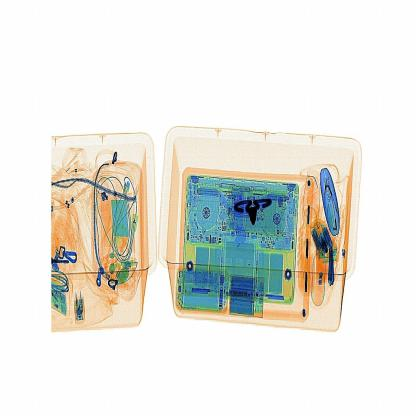gun: (228, 186, 289, 229)
